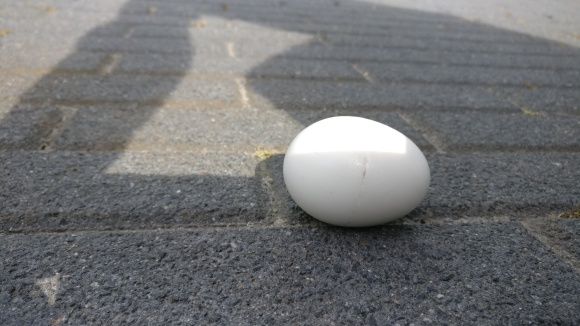egg: (280, 116, 432, 224)
